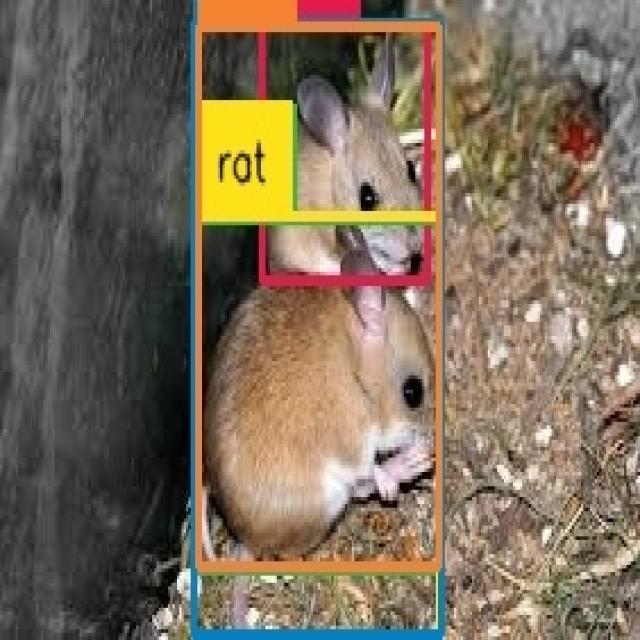rat: (195, 23, 440, 635), (200, 25, 440, 569), (194, 218, 439, 637), (199, 220, 439, 570), (262, 25, 428, 282)
